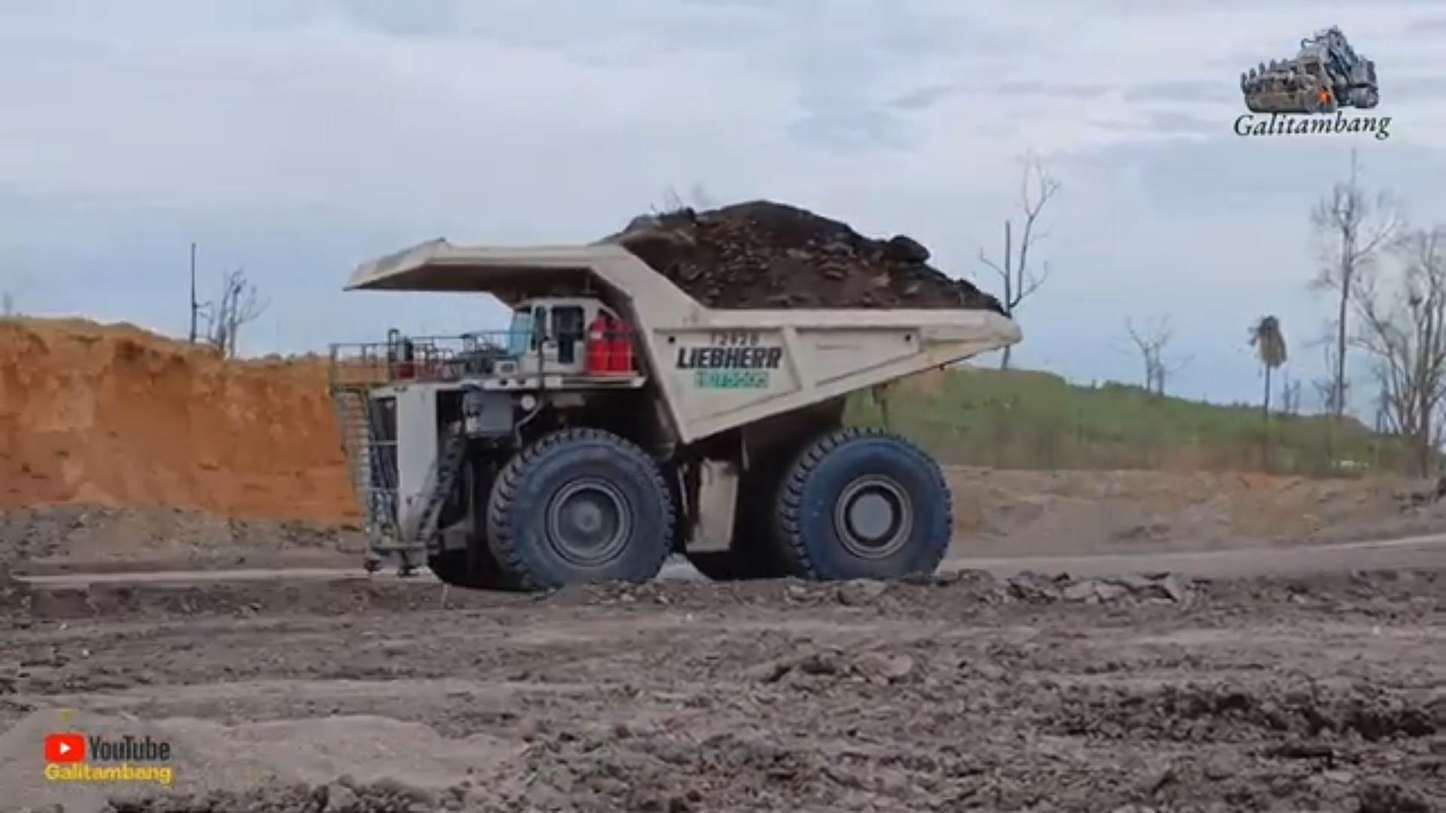HD-Truck: (331, 217, 1020, 591)
